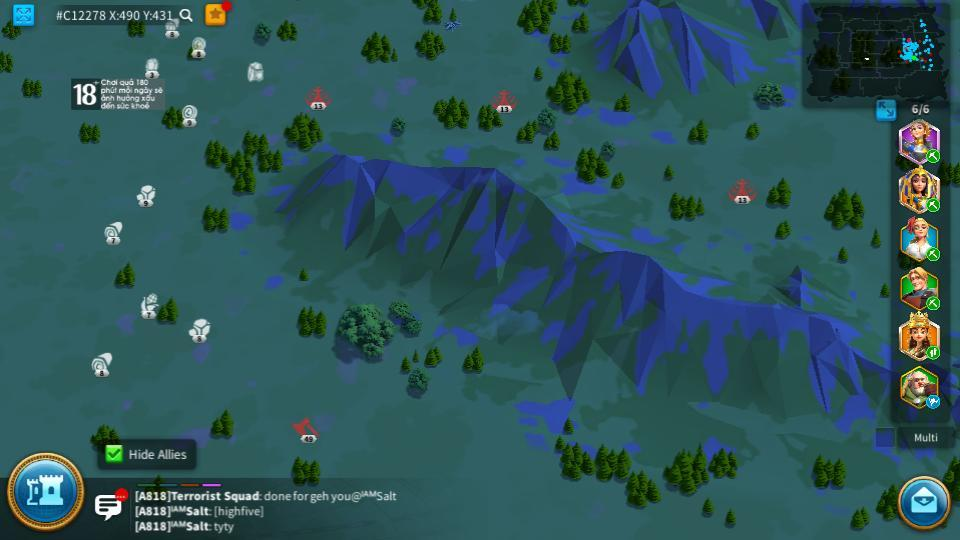gem-z-out: (143, 57, 160, 75)
march_farming: (925, 197, 941, 212), (924, 149, 939, 162)
march_idle: (926, 396, 942, 408)
march_marching: (925, 345, 941, 359), (925, 248, 941, 260), (925, 297, 942, 308)
